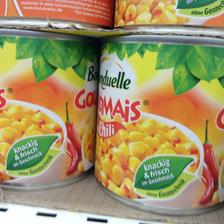Mais: (95, 34, 223, 215), (0, 26, 96, 190)
